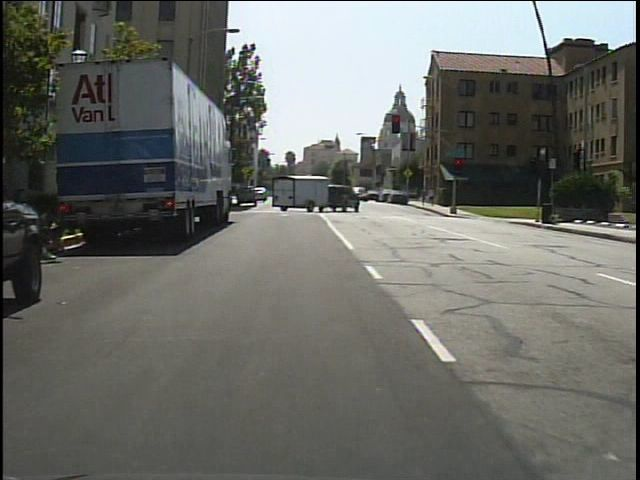person: (428, 184, 440, 210), (420, 185, 429, 208)
